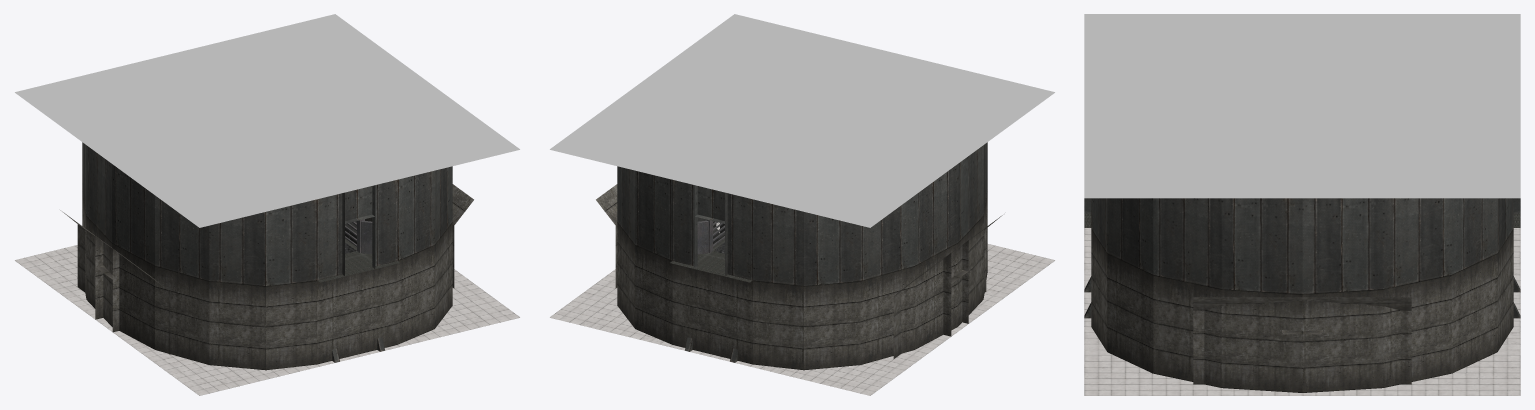
The model's file is Room2_ServerPit_HCZ.fbx.
The picture shows the model from 3 angles, left to right: view 1: azimuth 30°, elevation 25°; view 2: azimuth 150°, elevation 25°; view 3: azimuth 270°, elevation 25°; orthographic projection. The views are drawn at different scales.
Visible parts, largest first — view 1: concretefloor, concretewall, metalpanels, tilefloor, metal3, dirtymetal; view 2: concretefloor, concretewall, metalpanels, tilefloor, metal3, dirtymetal; view 3: concretefloor, concretewall, metalpanels, tilefloor.
Part boxes in pixels (x1=…): concretefloor: x1=15, y1=14, x2=519, y2=227; concretewall: x1=60, y1=184, x2=473, y2=370; metalpanels: x1=82, y1=142, x2=452, y2=362; tilefloor: x1=15, y1=245, x2=519, y2=395; metal3: x1=317, y1=238, x2=399, y2=282; dirtymetal: x1=345, y1=219, x2=372, y2=254; concretefloor: x1=550, y1=14, x2=1054, y2=227; concretewall: x1=596, y1=184, x2=1002, y2=370; metalpanels: x1=617, y1=142, x2=987, y2=362; tilefloor: x1=550, y1=222, x2=1054, y2=395; metal3: x1=670, y1=238, x2=752, y2=282; dirtymetal: x1=697, y1=219, x2=724, y2=254; concretefloor: x1=1084, y1=14, x2=1520, y2=198; concretewall: x1=1091, y1=228, x2=1513, y2=392; metalpanels: x1=1084, y1=198, x2=1520, y2=318; tilefloor: x1=1084, y1=228, x2=1520, y2=395.
Size of the model in its own units: 20.48 by 10.24 by 20.48.
